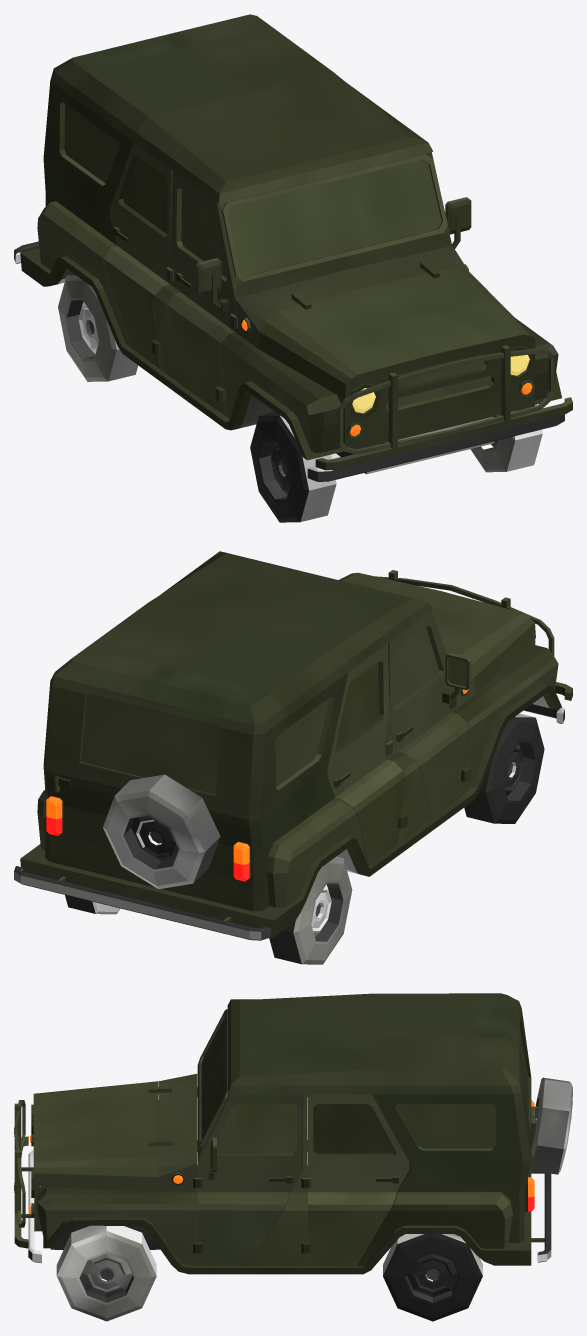
File: truck.glb
The picture shows the model from 3 angles, top to bottom: view 1: azimuth 30°, elevation 25°; view 2: azimuth 150°, elevation 25°; view 3: azimuth 270°, elevation 25°; orthographic projection. The views are drawn at different scales.
Parts seen in each view (by area): view 1: truckBody, wheel.003, wheel, wheel.001; view 2: truckBody, wheel.003, wheel, wheel.002; view 3: truckBody, wheel.001, wheel.002.
Boxes of the visible parts, x1,y1,x2,y2 form: truckBody: (14,14,572,481); wheel.003: (250,412,336,522); wheel: (58,273,138,381); wheel.001: (470,404,542,472); truckBody: (14,551,572,940); wheel.003: (464,713,544,823); wheel: (269,856,352,964); wheel.002: (65,895,120,914); truckBody: (14,993,572,1274); wheel.001: (56,1225,156,1321); wheel.002: (383,1234,482,1321).
Size of the model in its own units: 2.96 by 2.95 by 6.18.
Materials: 10 (10 with a texture image).
